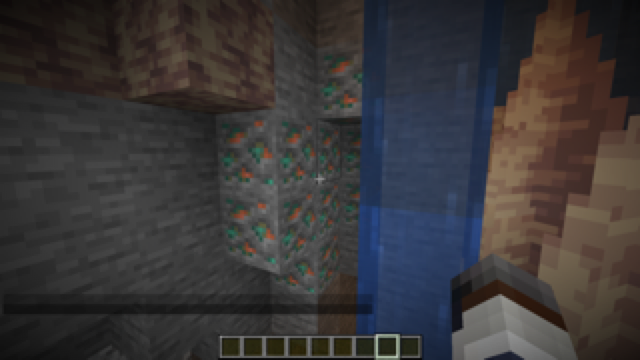copper: (220, 50, 391, 291)
